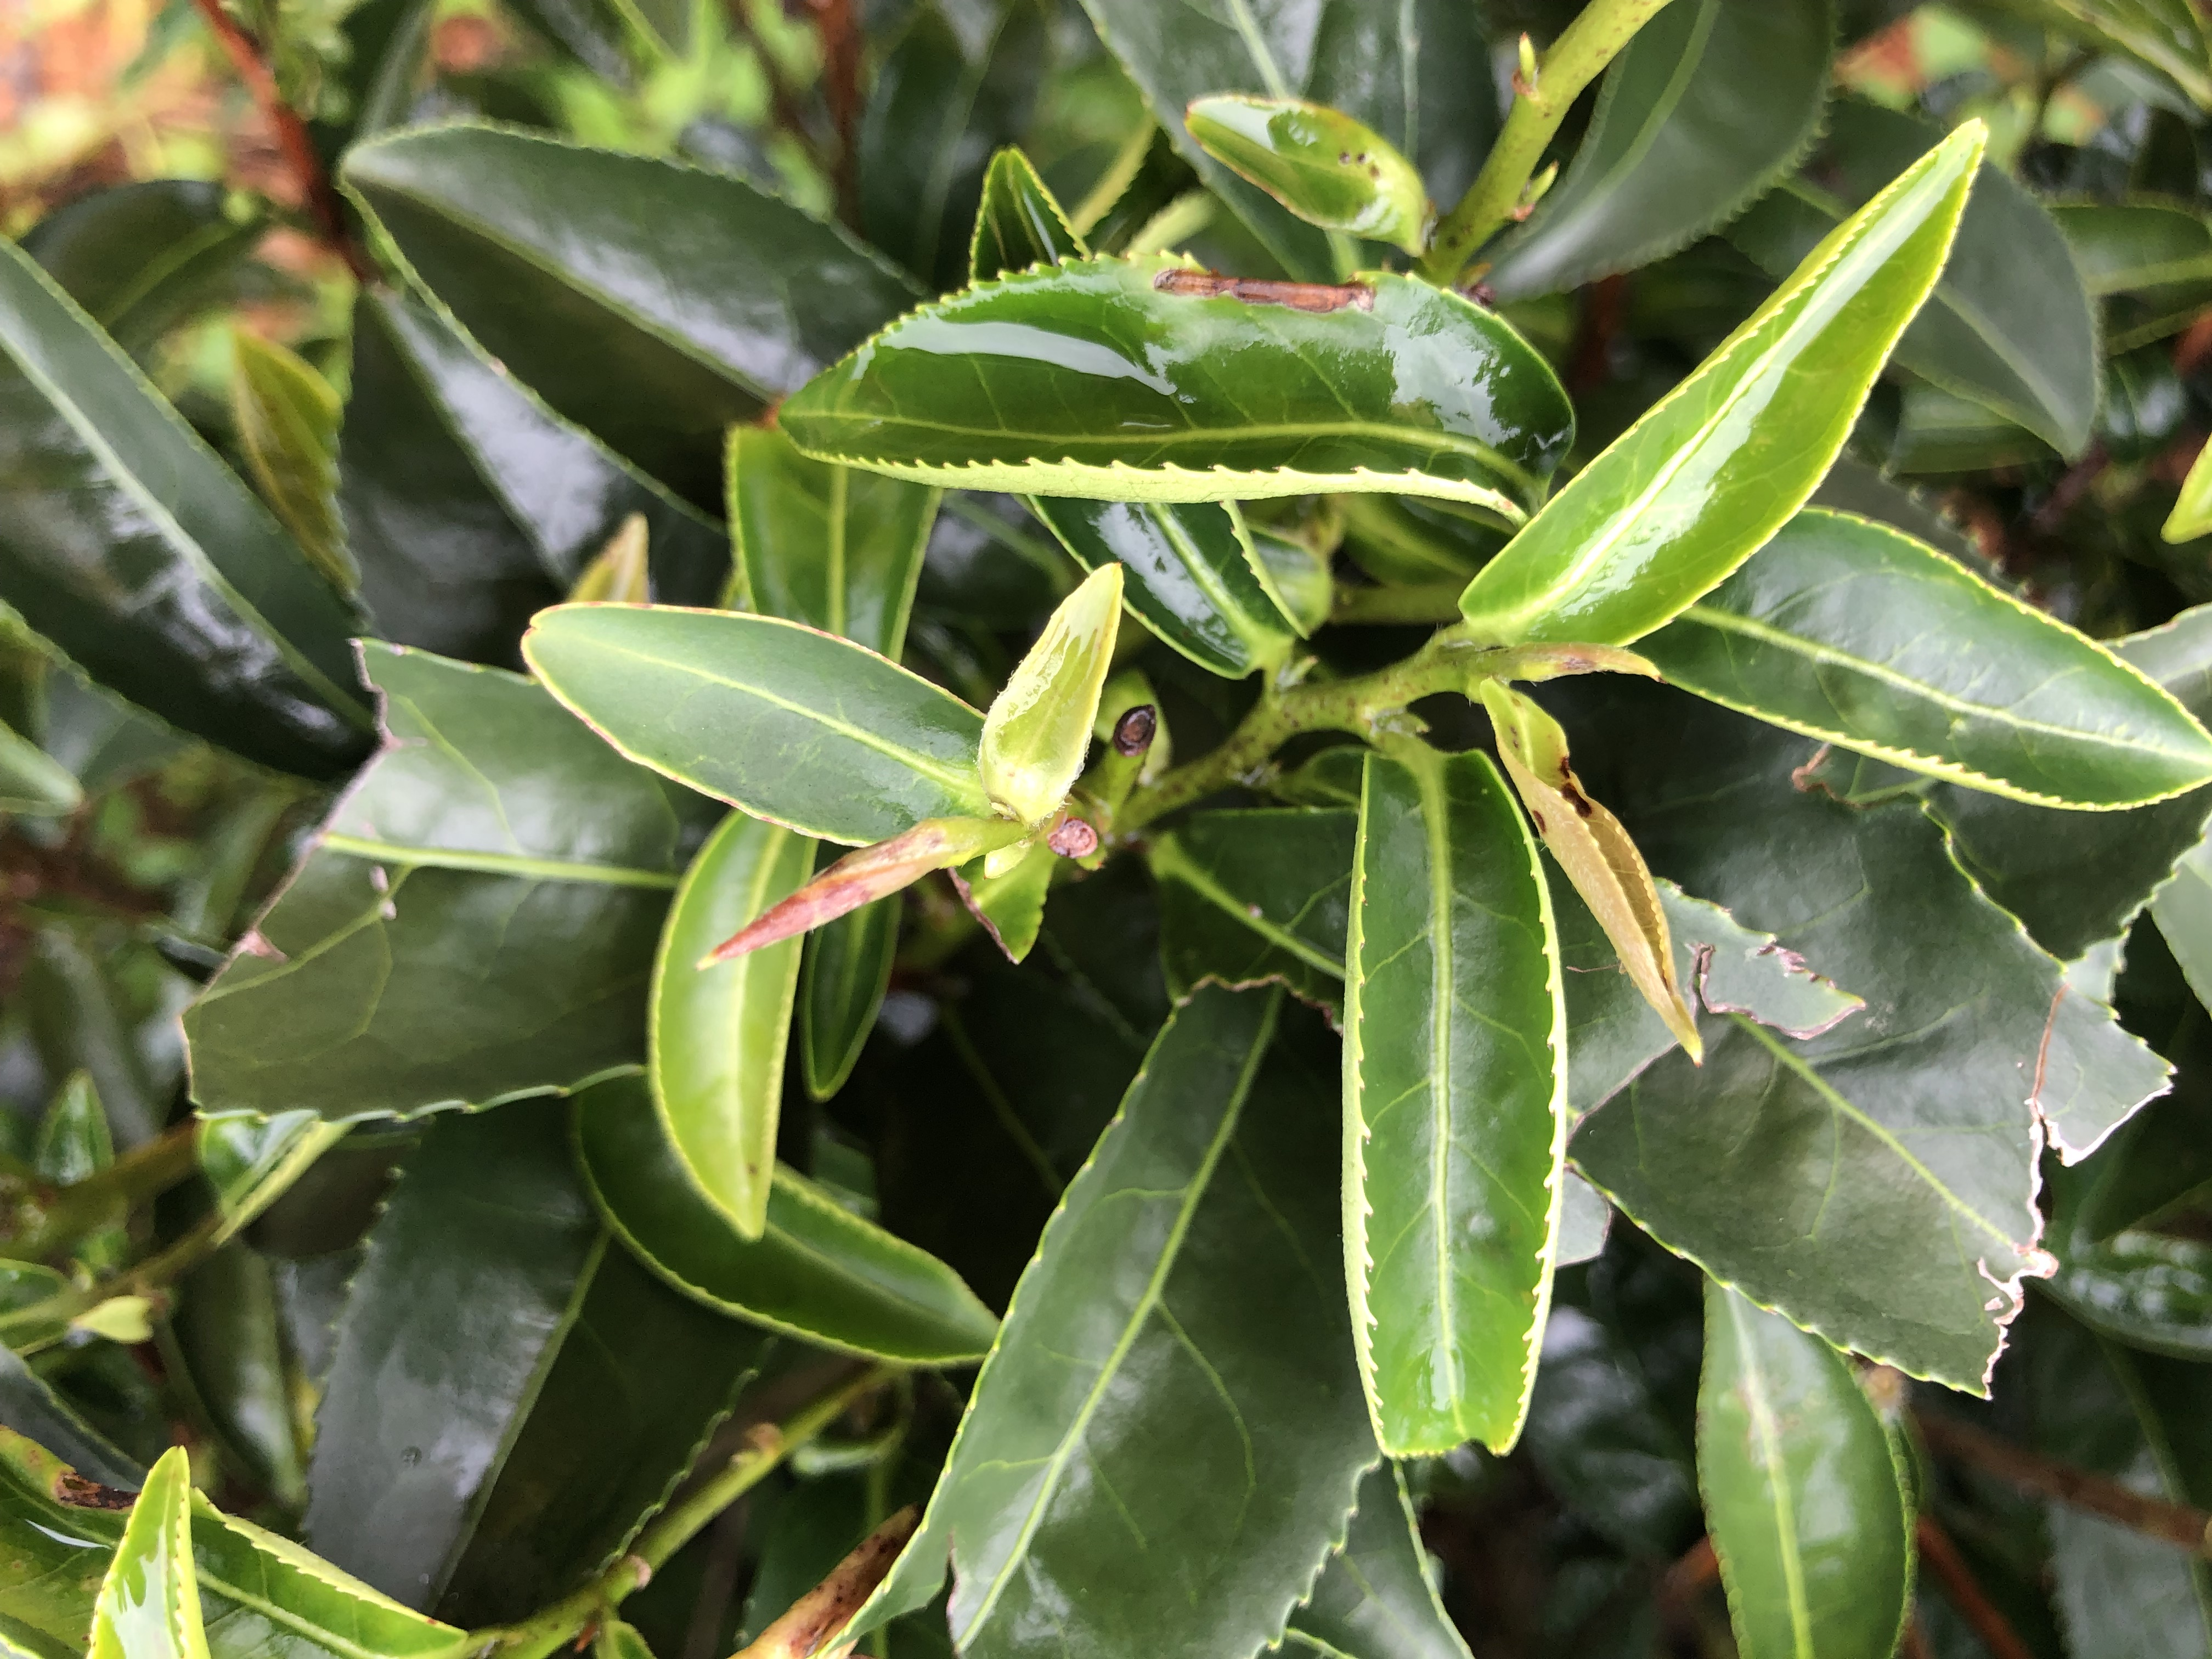formosa: (1489, 690, 1714, 1058), (972, 551, 1130, 824)
